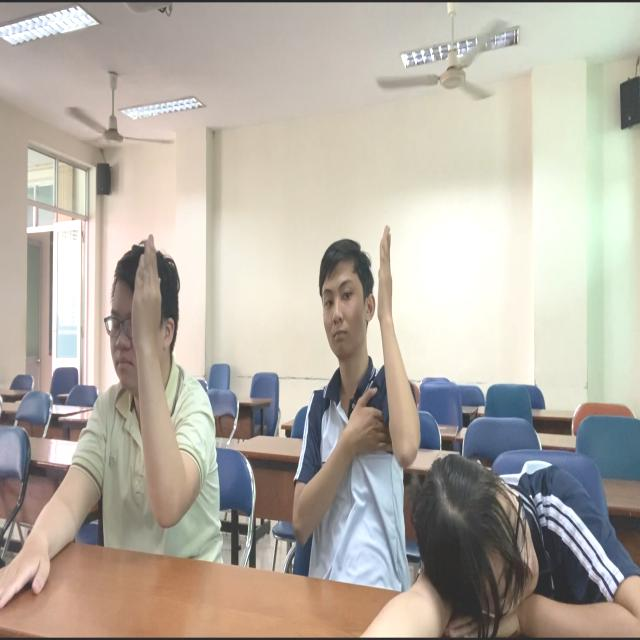raise_hand: (294, 215, 426, 596), (73, 220, 215, 567)
sleep: (377, 447, 639, 640)
